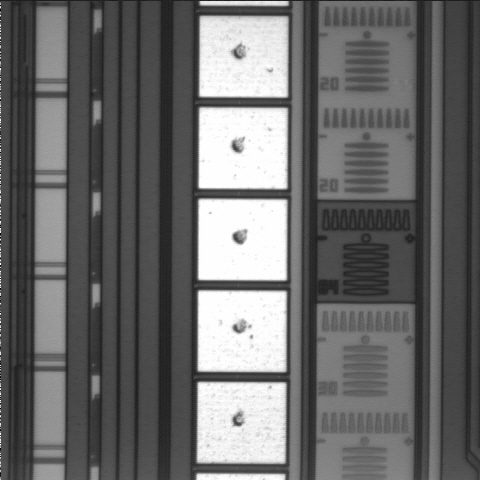pad: (198, 290, 287, 372), (197, 382, 286, 464), (199, 16, 288, 97), (199, 108, 288, 189), (198, 199, 287, 280)
